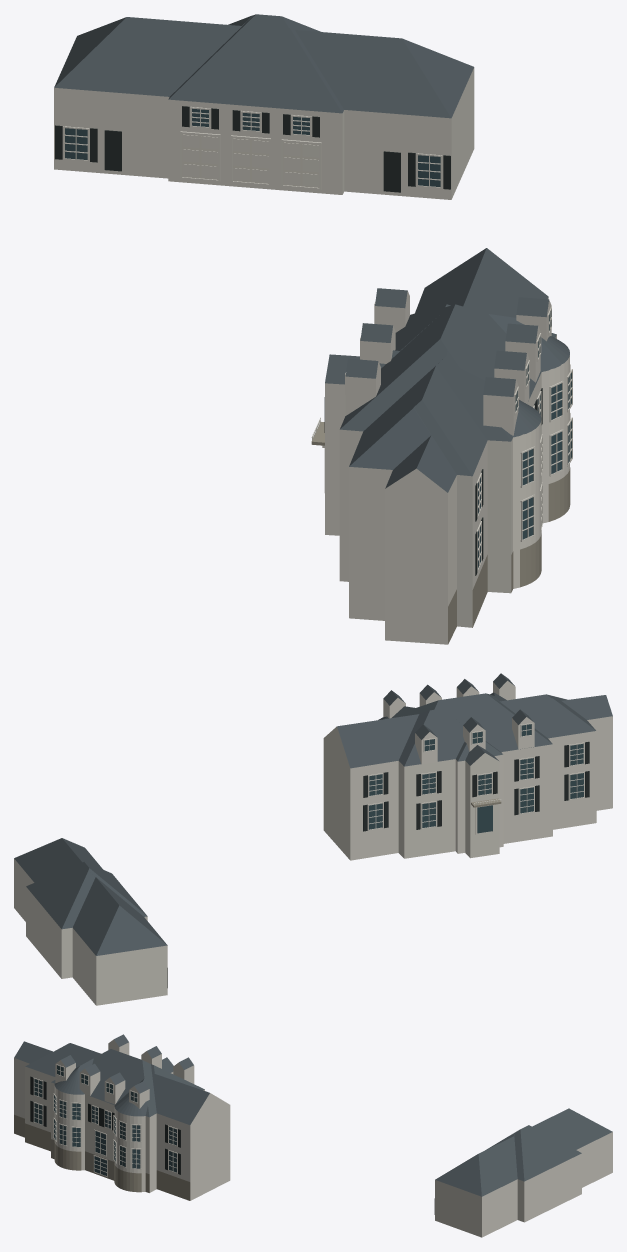
Rendered from bell-gairdner-estate-study.glb.
The picture shows the model from 3 angles, top to bottom: view 1: azimuth 30°, elevation 25°; view 2: azimuth 150°, elevation 25°; view 3: azimuth 270°, elevation 25°; orthographic projection. The views are drawn at different scales.
Parts seen in each view (by area): view 1: Bell-Gairdner-white, Bell-Gairdner-roof, Bell-Gairdner-shutter, Bell-Gairdner-glass, Bell-Gairdner-stone, Bell-Gairdner-garage; view 2: Bell-Gairdner-white, Bell-Gairdner-roof, Bell-Gairdner-glass, Bell-Gairdner-shutter; view 3: Bell-Gairdner-white, Bell-Gairdner-roof, Bell-Gairdner-stone, Bell-Gairdner-glass, Bell-Gairdner-shutter.
Boxes of the visible parts, <box> form: Bell-Gairdner-white: <box>54,67,572,644</box>; Bell-Gairdner-roof: <box>54,14,569,492</box>; Bell-Gairdner-shutter: <box>55,106,542,575</box>; Bell-Gairdner-glass: <box>65,108,571,567</box>; Bell-Gairdner-stone: <box>311,422,570,644</box>; Bell-Gairdner-garage: <box>182,134,319,187</box>; Bell-Gairdner-white: <box>14,681,612,1005</box>; Bell-Gairdner-roof: <box>14,673,612,955</box>; Bell-Gairdner-glass: <box>369,724,583,833</box>; Bell-Gairdner-shutter: <box>167,741,589,987</box>; Bell-Gairdner-white: <box>14,1039,612,1237</box>; Bell-Gairdner-roof: <box>14,1034,612,1196</box>; Bell-Gairdner-stone: <box>14,1114,190,1200</box>; Bell-Gairdner-glass: <box>34,1065,176,1175</box>; Bell-Gairdner-shutter: <box>30,1076,434,1214</box>.
Bounding box in the file's own units: 36.51 × 13.74 × 69.94.
